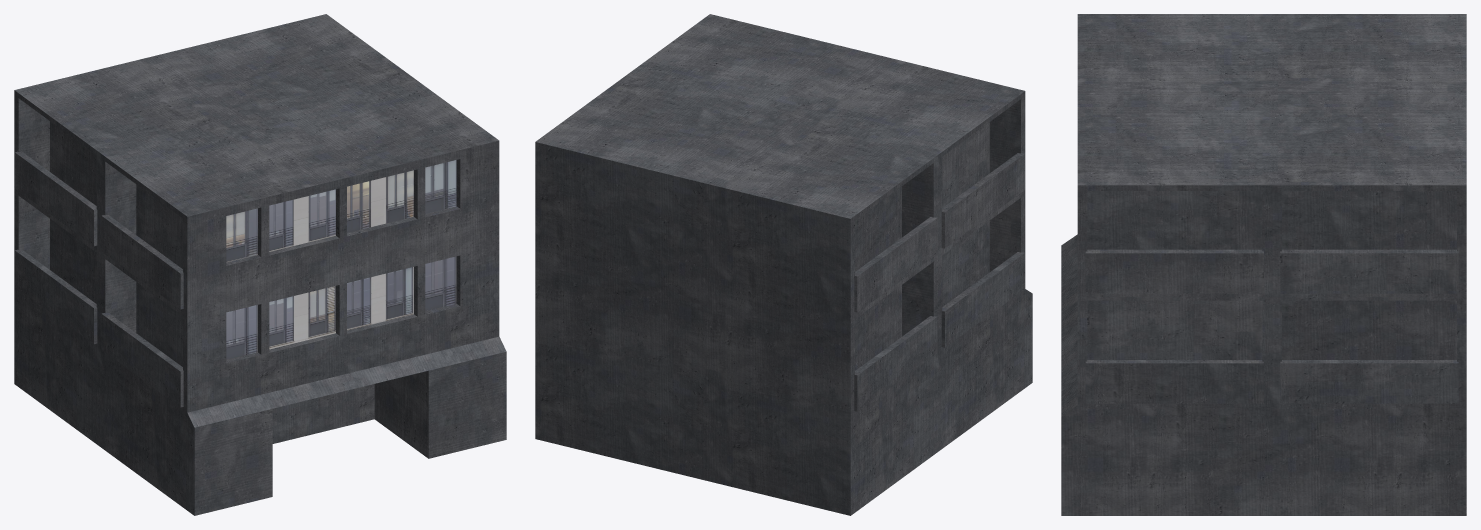
File: building5.fbx
3 views of the same model, side by side, from view 1: azimuth 30°, elevation 25°; view 2: azimuth 150°, elevation 25°; view 3: azimuth 270°, elevation 25° (orthographic). The views are drawn at different scales.
Visible parts, largest first — view 1: Cube; view 2: Cube; view 3: Cube.
Part boxes in pixels (<box>): Cube: <box>14,14,506,515</box>; Cube: <box>535,14,1032,515</box>; Cube: <box>1061,14,1466,515</box>.
Bounding box in the file's own units: 1020 × 900 × 1000.
